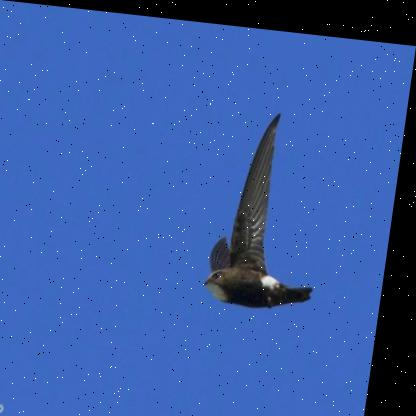Burung: (209, 101, 340, 306)
